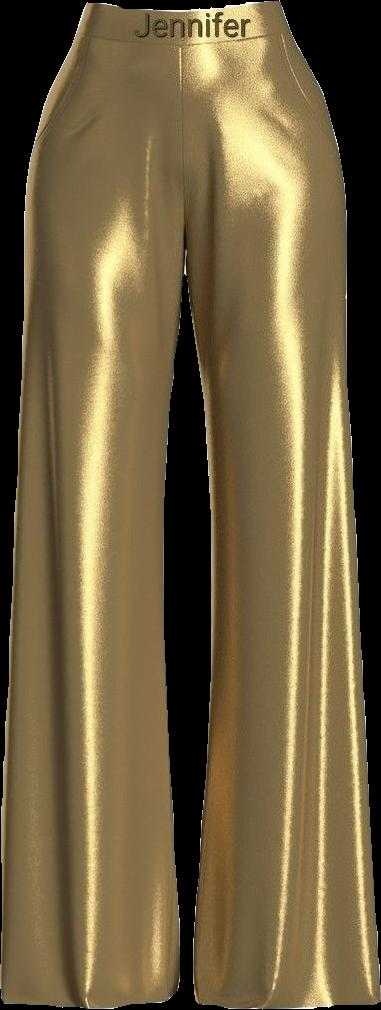Hemline: (1, 988, 175, 1009), (193, 993, 380, 1009)
Pantleg: (176, 1, 380, 1008), (1, 3, 184, 1007)
Waistline: (72, 24, 298, 53), (83, 0, 281, 24)
